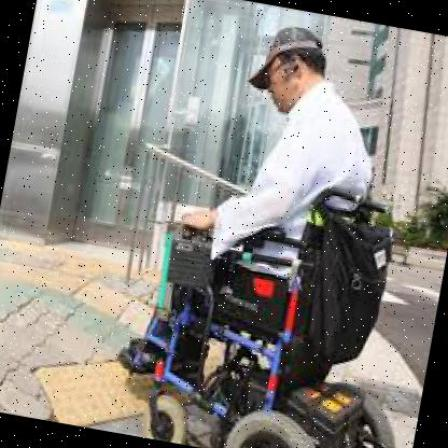wheel: (112, 5, 447, 447)
